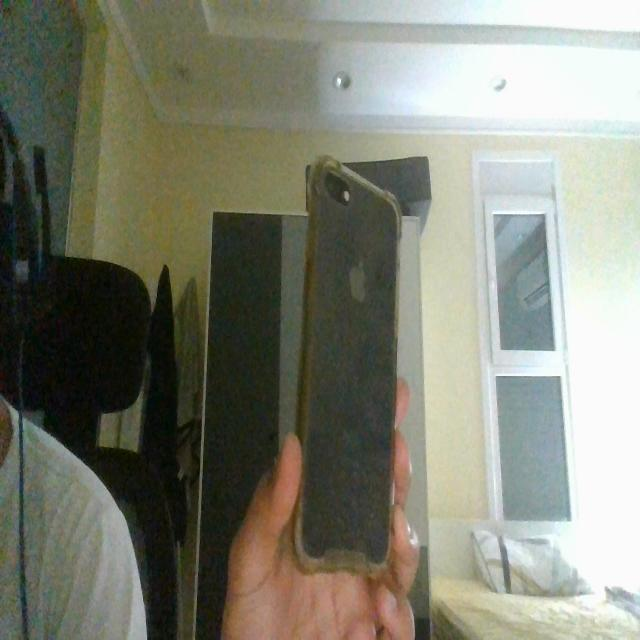Phone: (292, 155, 404, 577)
